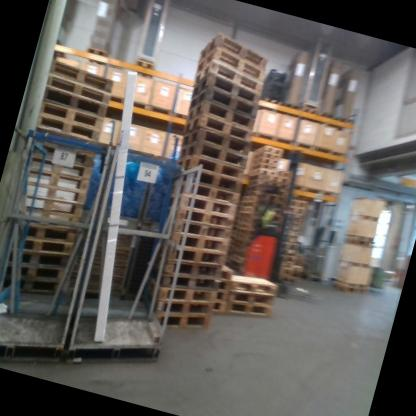forklift: (231, 142, 331, 301)
pallet: (183, 98, 255, 151), (146, 246, 224, 291), (198, 29, 272, 75), (192, 59, 267, 103), (145, 262, 221, 304), (194, 45, 266, 89), (159, 198, 235, 239), (173, 151, 245, 194), (5, 212, 77, 255), (191, 72, 262, 115), (188, 85, 260, 127), (176, 137, 247, 179), (0, 239, 71, 281), (4, 199, 81, 237), (155, 236, 227, 276), (3, 223, 75, 261), (152, 278, 217, 320), (167, 188, 237, 226), (167, 176, 240, 212), (172, 165, 243, 202), (181, 124, 248, 163), (0, 251, 66, 290), (39, 84, 110, 120), (165, 226, 230, 265), (12, 189, 81, 225), (22, 163, 90, 198), (154, 301, 212, 342), (20, 176, 86, 211), (152, 290, 214, 327), (48, 58, 116, 91), (165, 213, 232, 246), (33, 113, 102, 145), (25, 152, 93, 184), (37, 98, 103, 130), (30, 138, 94, 170), (44, 74, 111, 103), (3, 274, 63, 306), (227, 298, 275, 327), (229, 270, 277, 298), (227, 281, 275, 307), (334, 277, 370, 303), (251, 140, 283, 160), (82, 44, 111, 66), (133, 56, 157, 77), (248, 164, 273, 183), (249, 158, 275, 174), (251, 154, 278, 169), (252, 147, 280, 161), (210, 301, 231, 319), (298, 103, 323, 118), (270, 173, 291, 189), (247, 169, 269, 183), (217, 267, 234, 285), (213, 291, 230, 308), (277, 249, 295, 264), (247, 177, 267, 190), (331, 112, 352, 124), (264, 94, 283, 107), (239, 192, 258, 205), (215, 277, 230, 293), (287, 197, 307, 209), (286, 205, 305, 217), (285, 216, 304, 228), (272, 167, 290, 179), (282, 239, 298, 252), (239, 198, 257, 209), (282, 99, 299, 110), (245, 181, 259, 194), (318, 108, 333, 120), (283, 227, 302, 236), (244, 186, 261, 196), (284, 212, 305, 220), (240, 205, 254, 215), (284, 224, 304, 231), (283, 232, 297, 242), (280, 185, 288, 194)
stillage: (93, 136, 161, 236), (73, 214, 140, 307), (115, 224, 170, 310), (136, 148, 188, 232), (76, 141, 115, 232)
